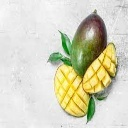mango: (70, 6, 108, 81)
